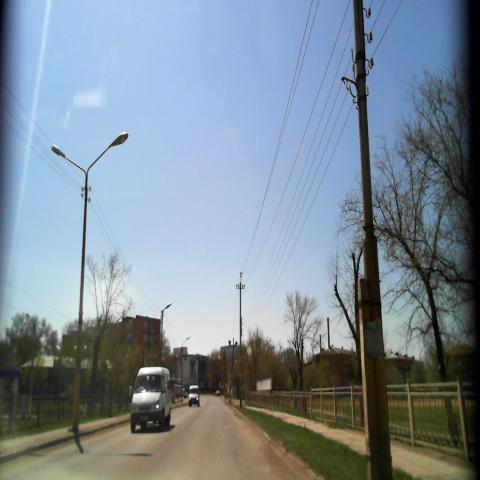1_11_1: (238, 354, 246, 366)
